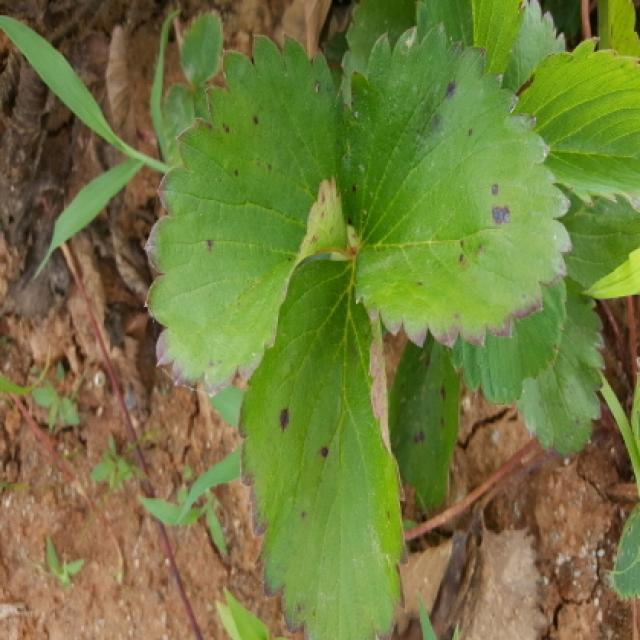Leaf Spot: (341, 21, 573, 350), (143, 32, 350, 398), (237, 254, 411, 638), (519, 276, 605, 463), (389, 330, 459, 514)
